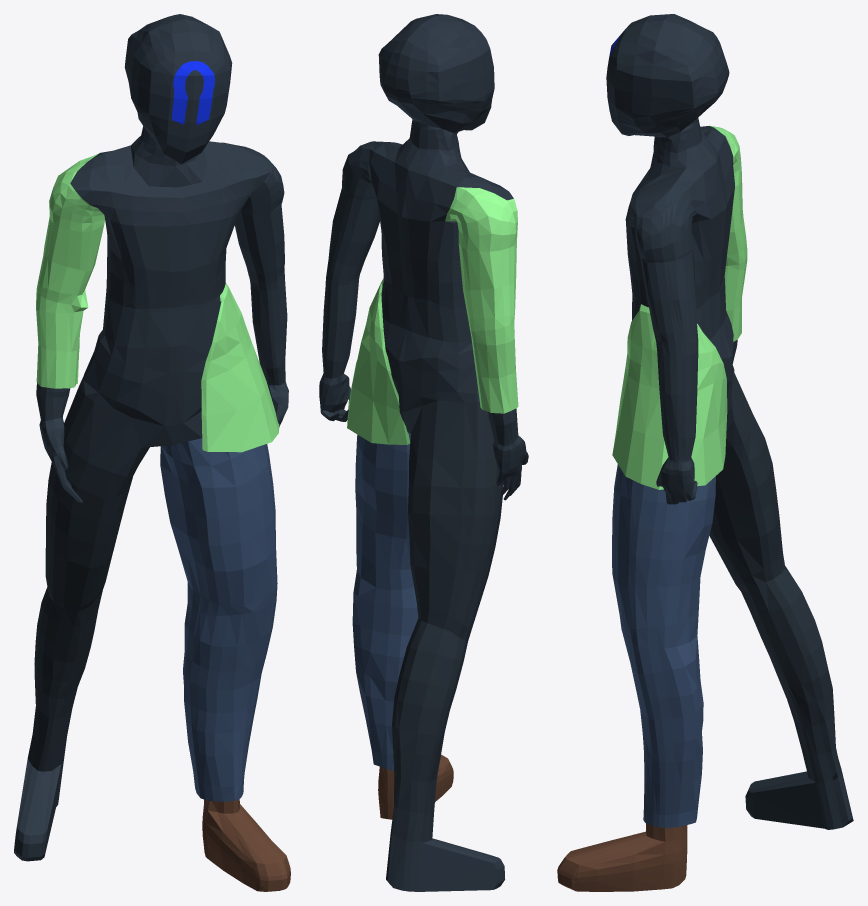
The model's file is Mar_Recover_000010.obj.
3 views of the same model, side by side, from view 1: azimuth 30°, elevation 25°; view 2: azimuth 150°, elevation 25°; view 3: azimuth 270°, elevation 25° (orthographic). The views are drawn at different scales.
Parts seen in each view (by area): view 1: Cube.000_Cube.001; view 2: Cube.000_Cube.001; view 3: Cube.000_Cube.001.
Part boxes in pixels (box(x1,y1,x2,y2)): Cube.000_Cube.001: box(14, 14, 290, 891); Cube.000_Cube.001: box(319, 14, 528, 891); Cube.000_Cube.001: box(557, 14, 853, 891).
Size of the model in its own units: 1.11 by 3.93 by 1.25.
